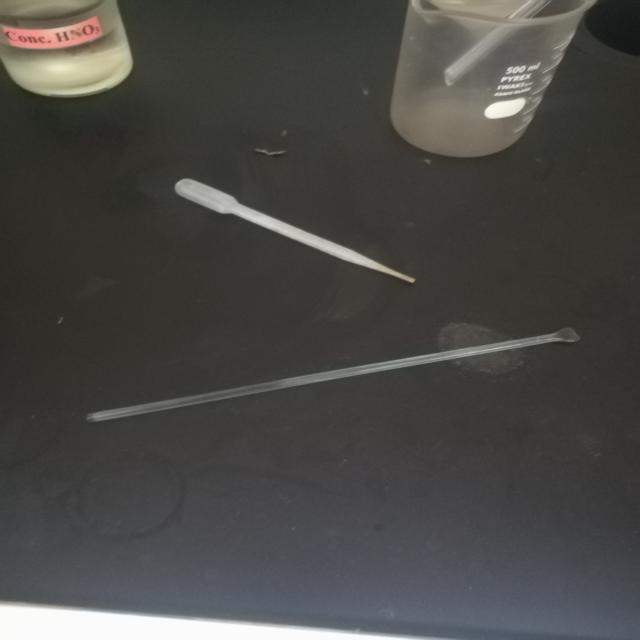Glass_Rod: (32, 305, 592, 449)
Pipette: (155, 160, 463, 298)
